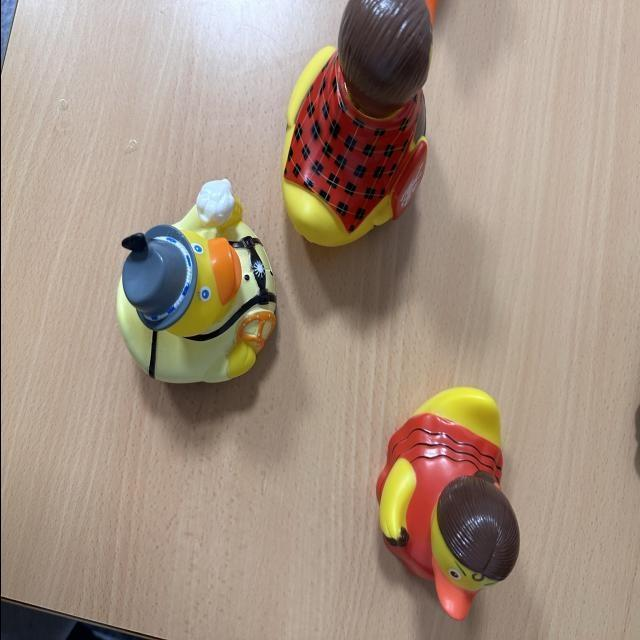rubber-duck: (281, 0, 430, 244), (376, 386, 517, 618), (116, 178, 274, 381)
